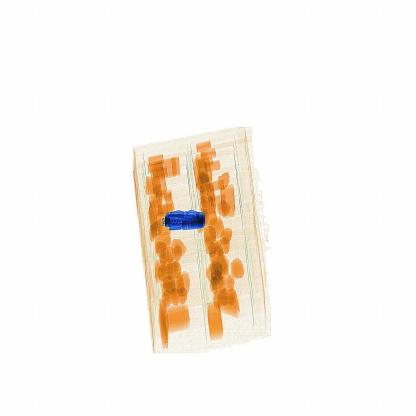scissors: (160, 195, 213, 234)
